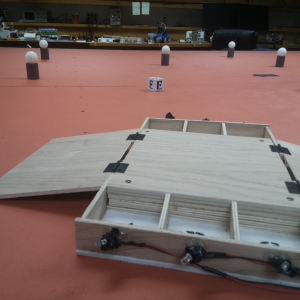blockE: (147, 77, 165, 93)
obstacle: (25, 50, 40, 79), (275, 48, 287, 67), (161, 45, 171, 66), (39, 40, 49, 61), (226, 41, 236, 58)
side: (71, 216, 300, 294)
slope: (1, 127, 140, 199)
start: (252, 71, 278, 80)
